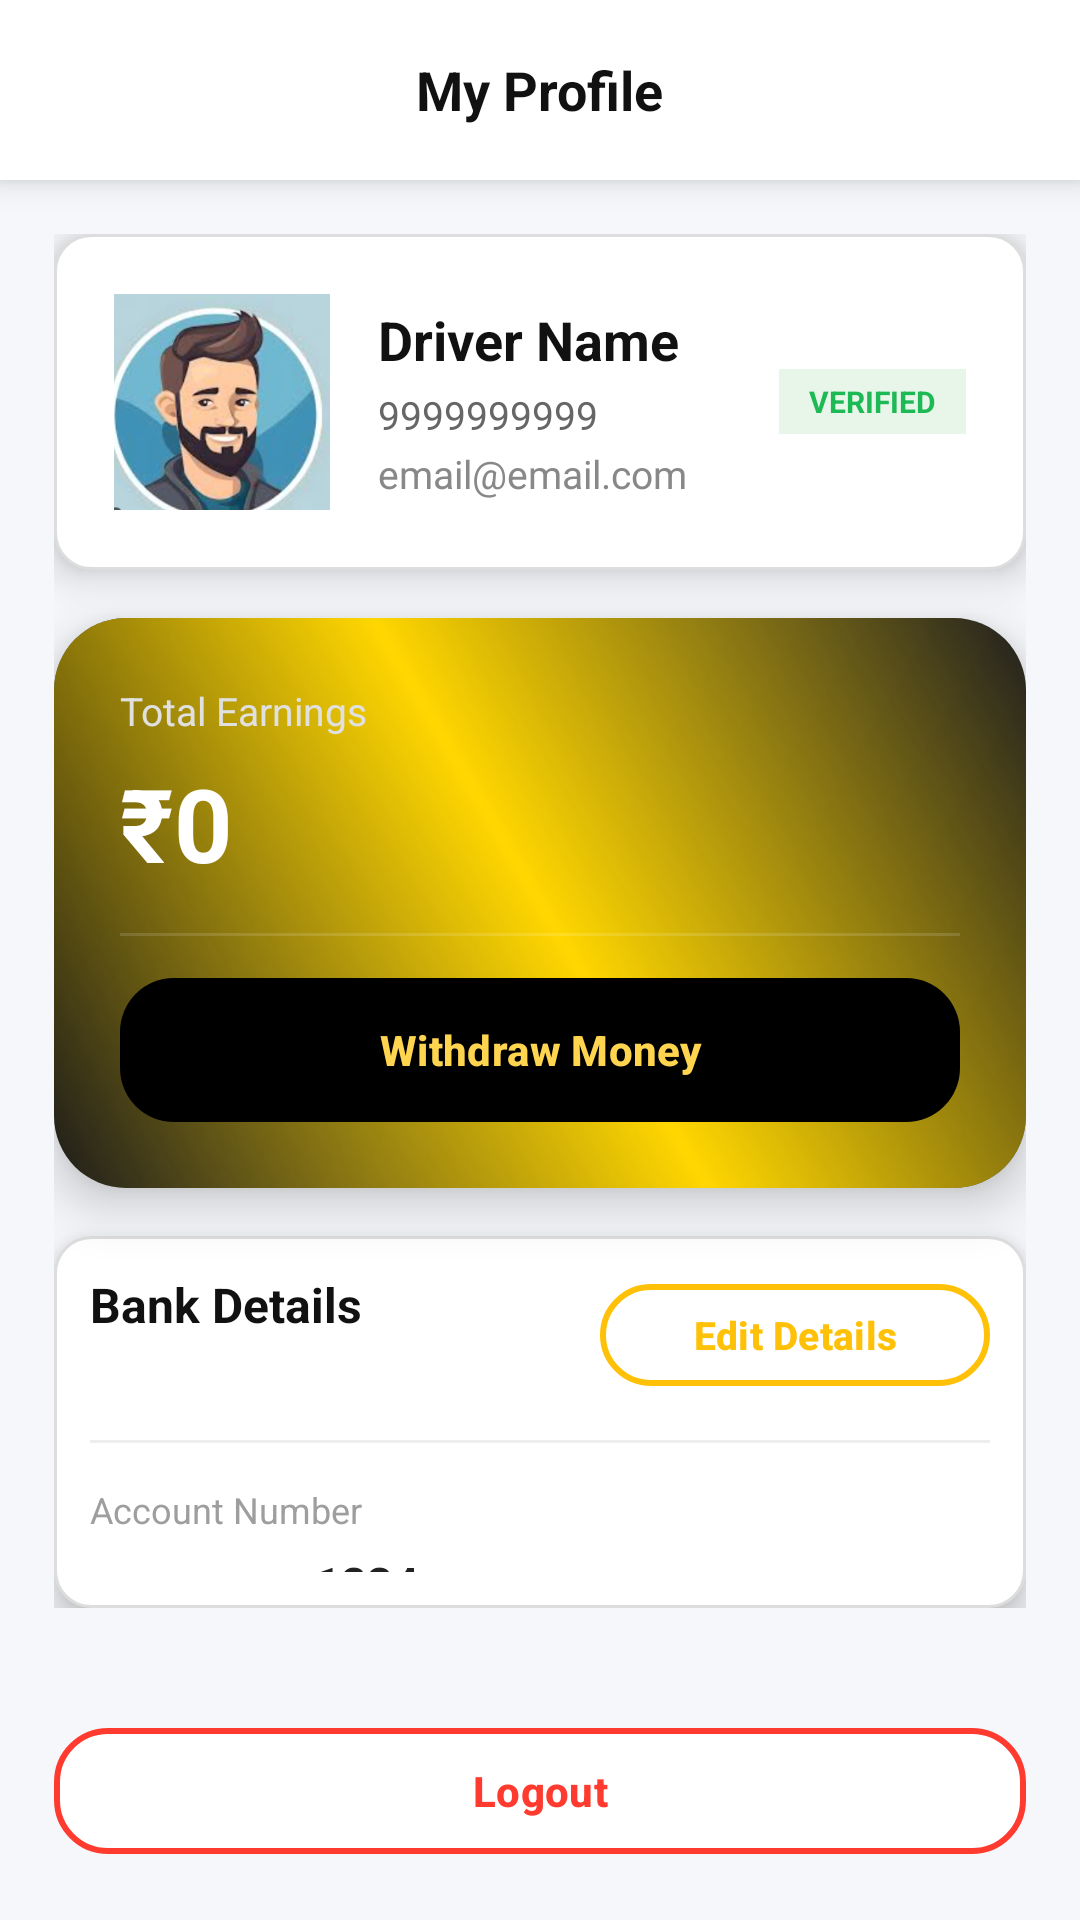

Locate icon controls on the screen. Image size 1080*1920, boxes as {"left": x1, "top": y1, "right": x2, "bottom": y2}.
profile: {"left": 114, "top": 294, "right": 330, "bottom": 510}
